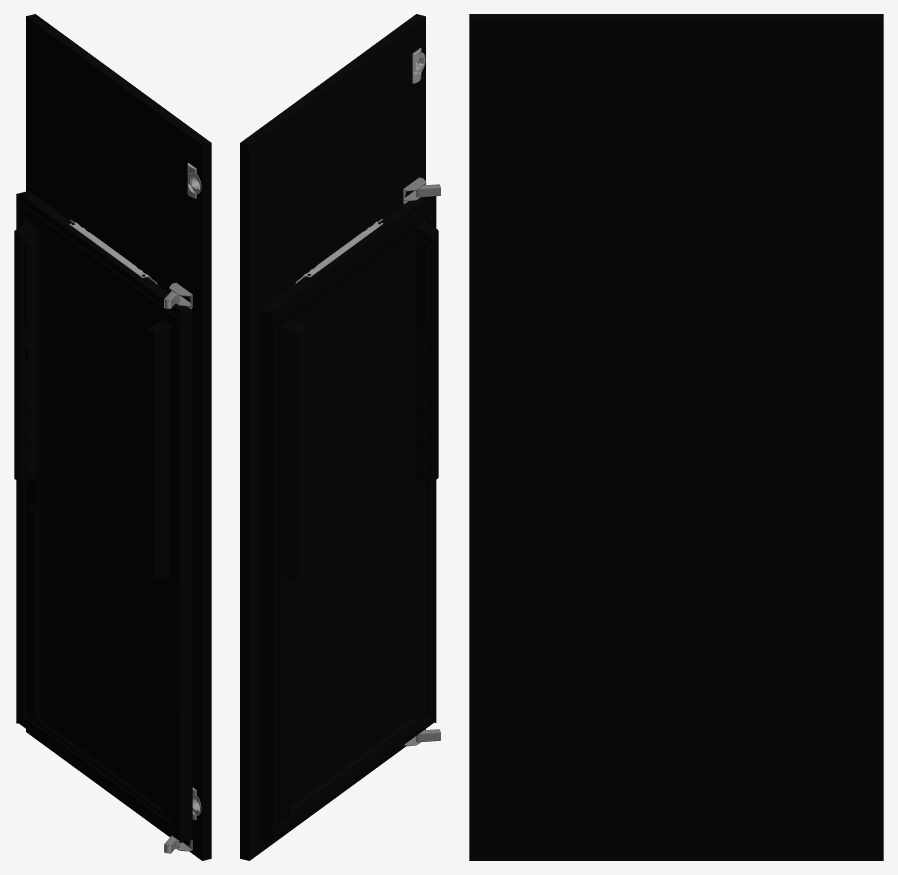
The model's file is IAIDoorW60H133.dae.
3 views of the same model, side by side, from view 1: azimuth 30°, elevation 25°; view 2: azimuth 150°, elevation 25°; view 3: azimuth 270°, elevation 25° (orthographic). The views are drawn at different scales.
Parts seen in each view (by area): view 1: SM_Fridge_Door_01; view 2: SM_Fridge_Door_01; view 3: SM_Fridge_Door_01.
Part boxes in pixels (bbox=[...]): SM_Fridge_Door_01: bbox=[14, 14, 211, 860]; SM_Fridge_Door_01: bbox=[240, 14, 440, 860]; SM_Fridge_Door_01: bbox=[469, 14, 883, 860].
Bounding box in the file's own units: 0.0789 × 0.5969 × 1.34.
Materials: 5 (1 with a texture image).
